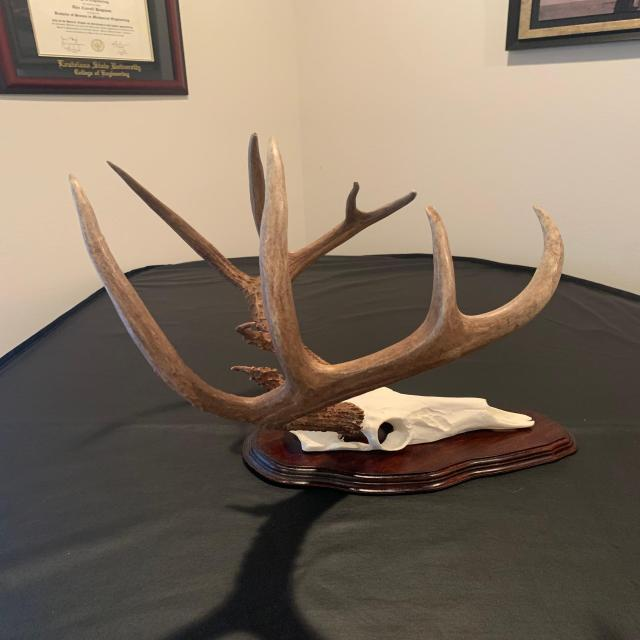L-G2: (106, 160, 254, 298)
R-F: (252, 204, 565, 436)
R-G2: (68, 173, 256, 423)
R-G3: (258, 137, 322, 381)
R-G4: (424, 205, 464, 322)
